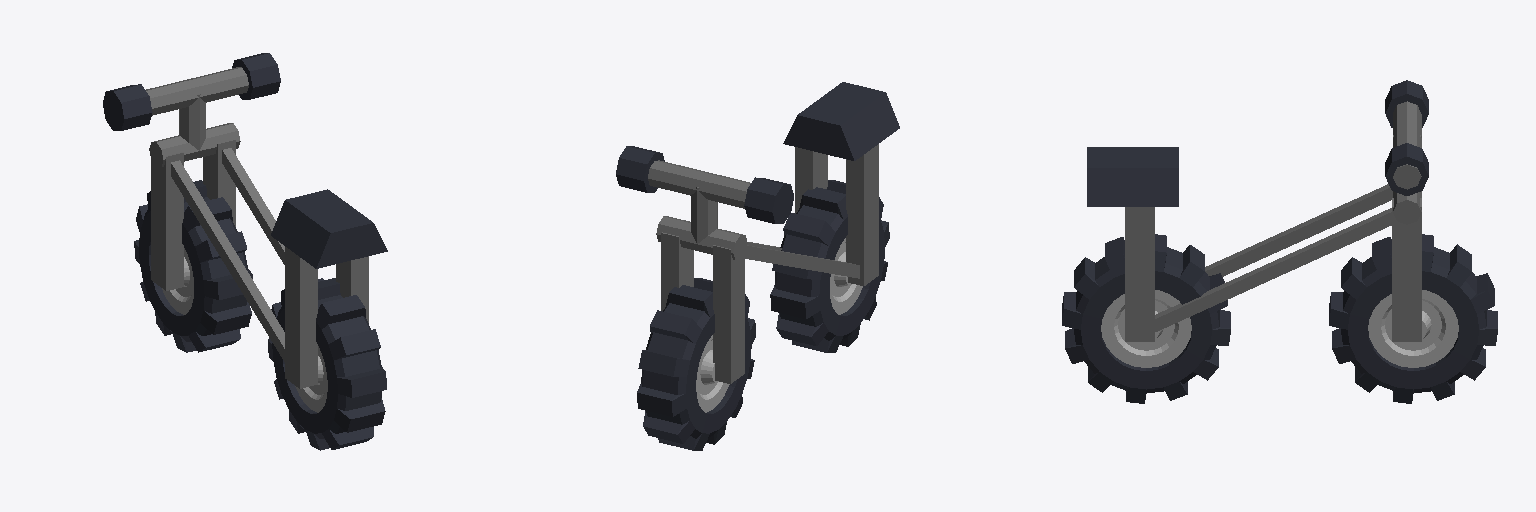
Rendered from Bike1.obj.
3 renders of one model, left to right at view 1: azimuth 30°, elevation 25°; view 2: azimuth 150°, elevation 25°; view 3: azimuth 270°, elevation 25°, orthographic.
Parts seen in each view (by area): view 1: mergedBlocks; view 2: mergedBlocks; view 3: mergedBlocks.
Boxes of the visible parts, x1,y1,x2,y2 form: mergedBlocks: [103, 53, 387, 450]; mergedBlocks: [616, 82, 899, 450]; mergedBlocks: [1062, 80, 1497, 403].
Size of the model in its own units: 0.6146 by 1.02 by 1.47.